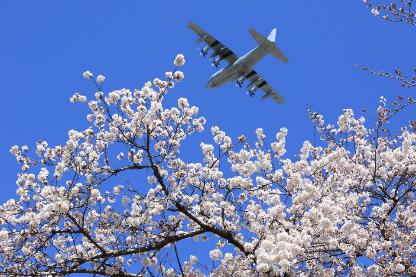Be200: (186, 21, 289, 104)
